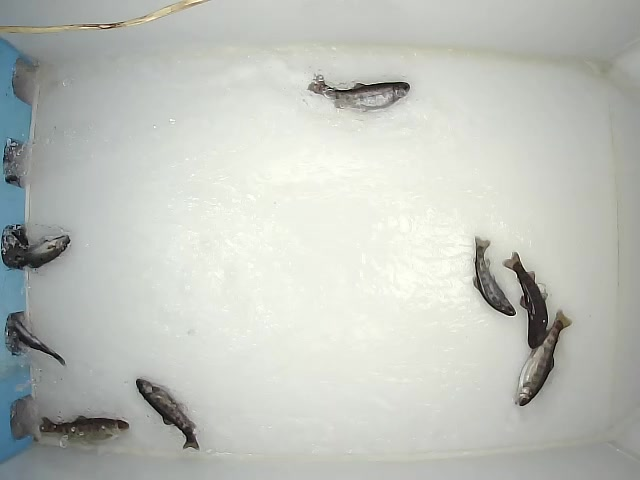fish: (512, 308, 572, 406), (134, 377, 200, 450), (502, 250, 549, 349), (305, 70, 412, 113), (471, 232, 517, 316), (38, 414, 130, 444)
